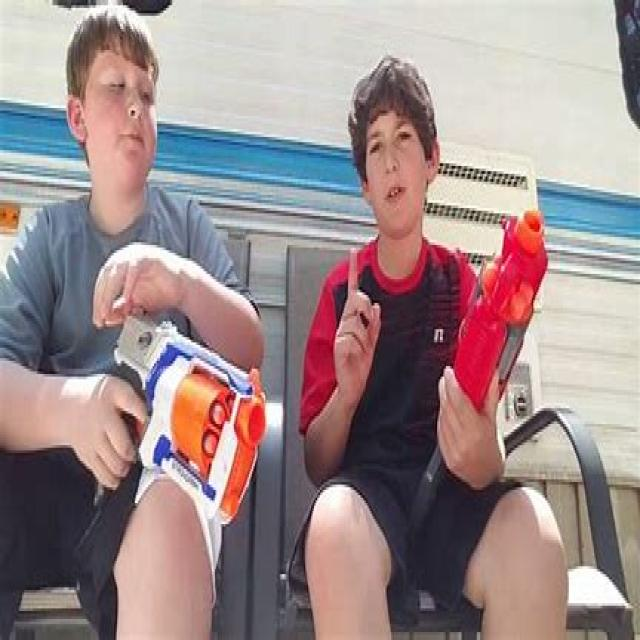nerf-maverik: (107, 284, 270, 548)
